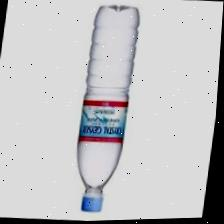plastic: (79, 3, 138, 213)
